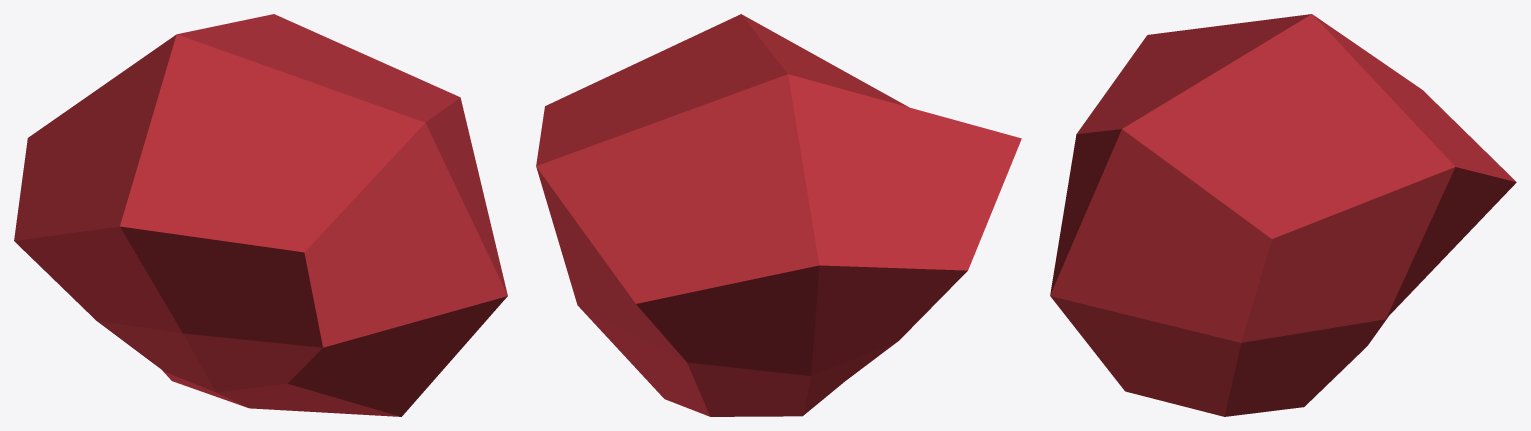
The model's file is BushBerries_Crop.glb.
The picture shows the model from 3 angles, left to right: view 1: azimuth 30°, elevation 25°; view 2: azimuth 150°, elevation 25°; view 3: azimuth 270°, elevation 25°; orthographic projection. The views are drawn at different scales.
Visible parts, largest first — view 1: BushBerries_Crop; view 2: BushBerries_Crop; view 3: BushBerries_Crop.
Boxes of the visible parts, x1=… form: BushBerries_Crop: x1=14, y1=14, x2=507, y2=416; BushBerries_Crop: x1=536, y1=14, x2=1021, y2=416; BushBerries_Crop: x1=1050, y1=14, x2=1516, y2=416.
Bounding box in the file's own units: 0.169 × 0.1317 × 0.1661.
